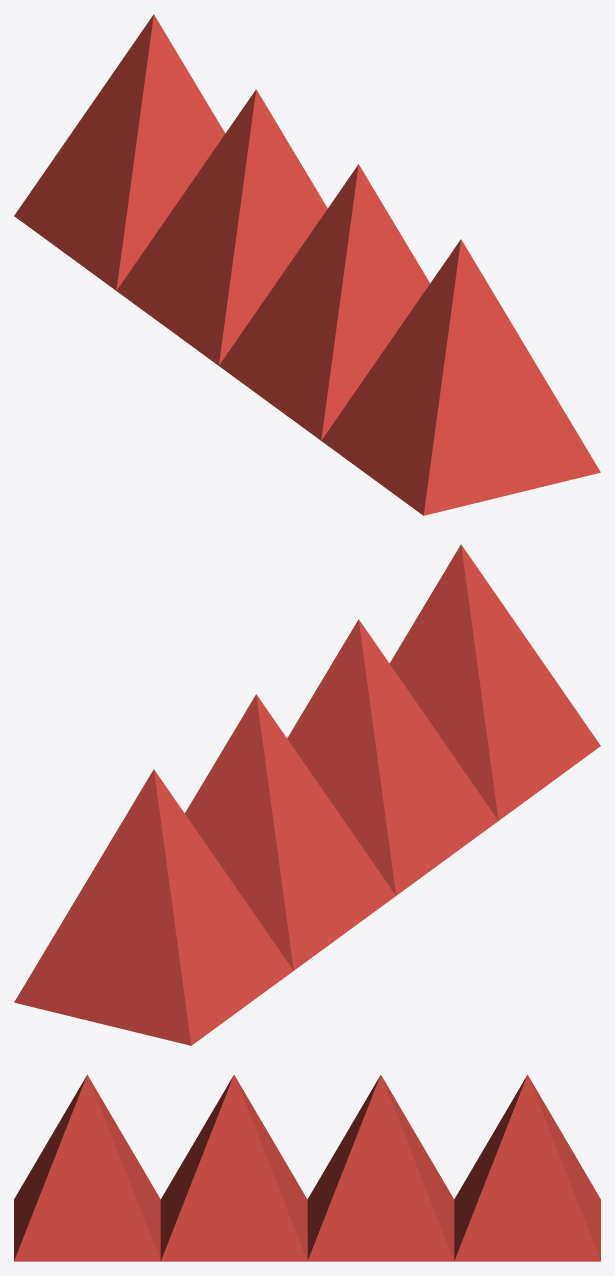
Rendered from obstacle.fbx.
The picture shows the model from 3 angles, top to bottom: view 1: azimuth 30°, elevation 25°; view 2: azimuth 150°, elevation 25°; view 3: azimuth 270°, elevation 25°; orthographic projection. The views are drawn at different scales.
Visible parts, largest first — view 1: Cone.001; view 2: Cone.001; view 3: Cone.001.
Part boxes in pixels (x1,y1,x2,y2): Cone.001: (14, 14, 600, 515); Cone.001: (14, 544, 600, 1045); Cone.001: (14, 1074, 600, 1261).
Bounding box in the file's own units: 170 × 200 × 682.
